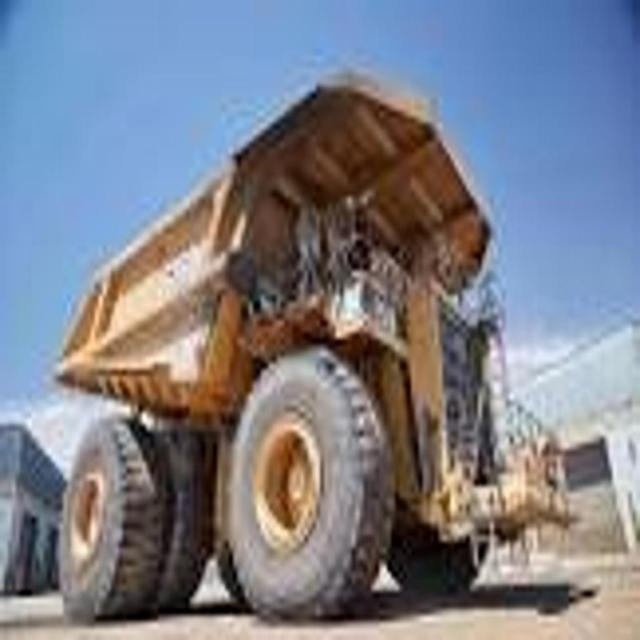dump_truck: (60, 68, 573, 640)
